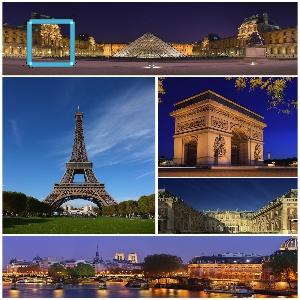square: (27, 18, 76, 68)
